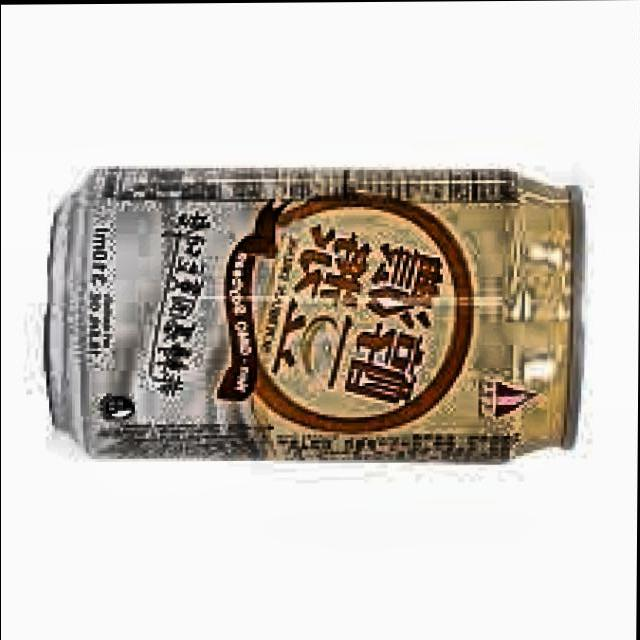litter: (30, 148, 598, 474)
